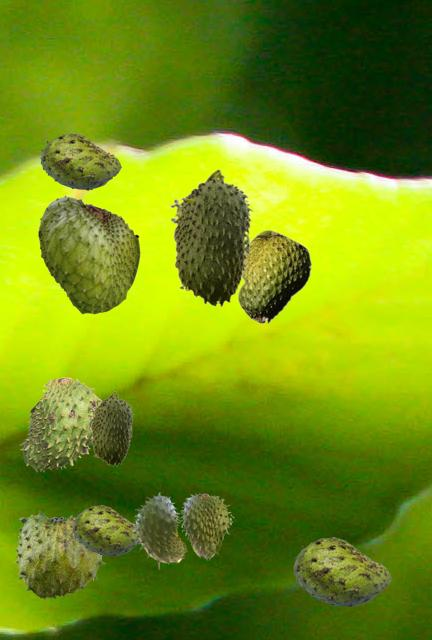guyabano: (38, 194, 139, 313), (170, 168, 253, 306), (14, 510, 106, 598), (19, 377, 102, 471), (237, 229, 311, 324), (293, 537, 390, 606), (40, 133, 120, 189), (132, 492, 186, 568), (179, 493, 233, 559), (72, 505, 138, 555), (89, 391, 133, 465)
